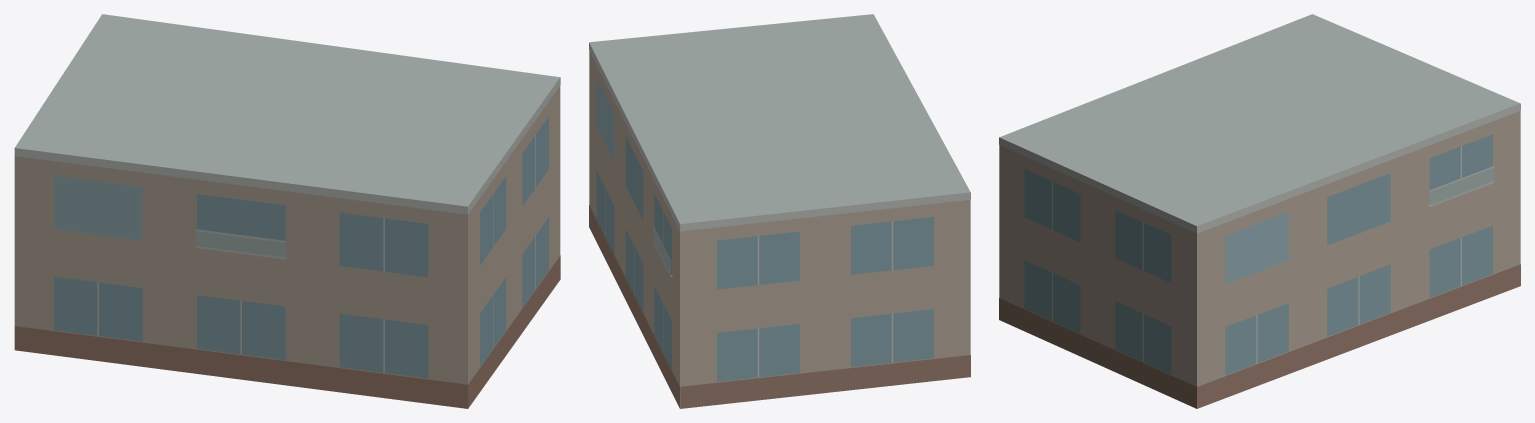
The model's file is survey-upis-32532118.glb.
The picture shows the model from 3 angles, left to right: view 1: azimuth 30°, elevation 25°; view 2: azimuth 150°, elevation 25°; view 3: azimuth 270°, elevation 25°; orthographic projection. The views are drawn at different scales.
Parts seen in each view (by area): view 1: survey-upis-32532118.tmp; view 2: survey-upis-32532118.tmp; view 3: survey-upis-32532118.tmp.
Boxes of the visible parts, x1,y1,x2,y2 form: survey-upis-32532118.tmp: (14, 14, 560, 408); survey-upis-32532118.tmp: (589, 14, 970, 408); survey-upis-32532118.tmp: (999, 14, 1520, 408).
Size of the model in its own units: 15.22 by 6.1 by 15.8.
